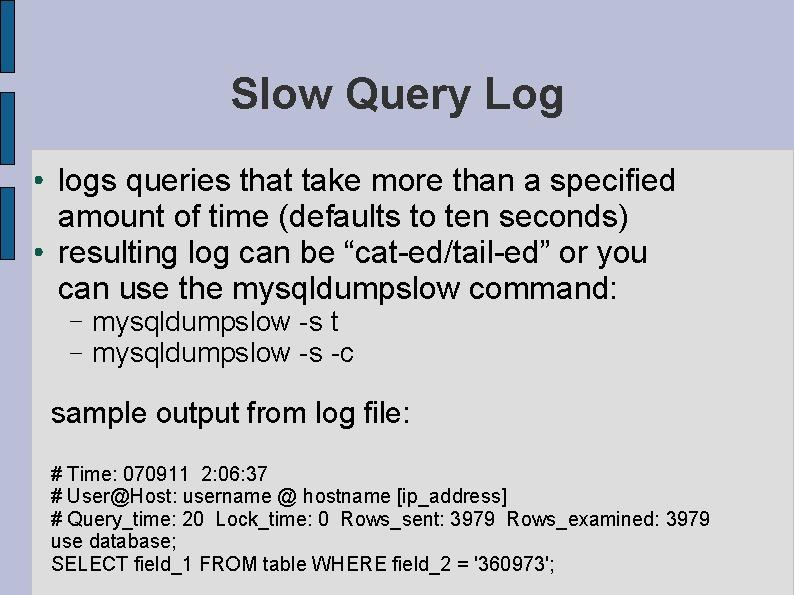paragraph: (32, 158, 753, 585)
title: (212, 58, 574, 122)
